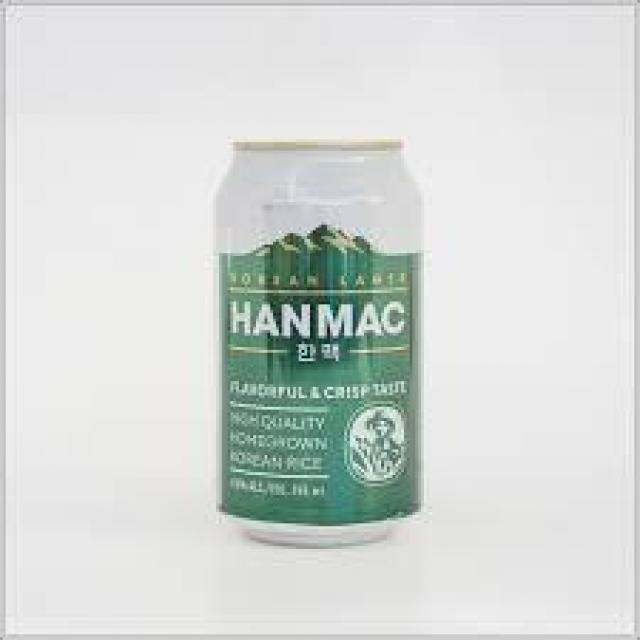beer-can: (209, 131, 428, 552)
